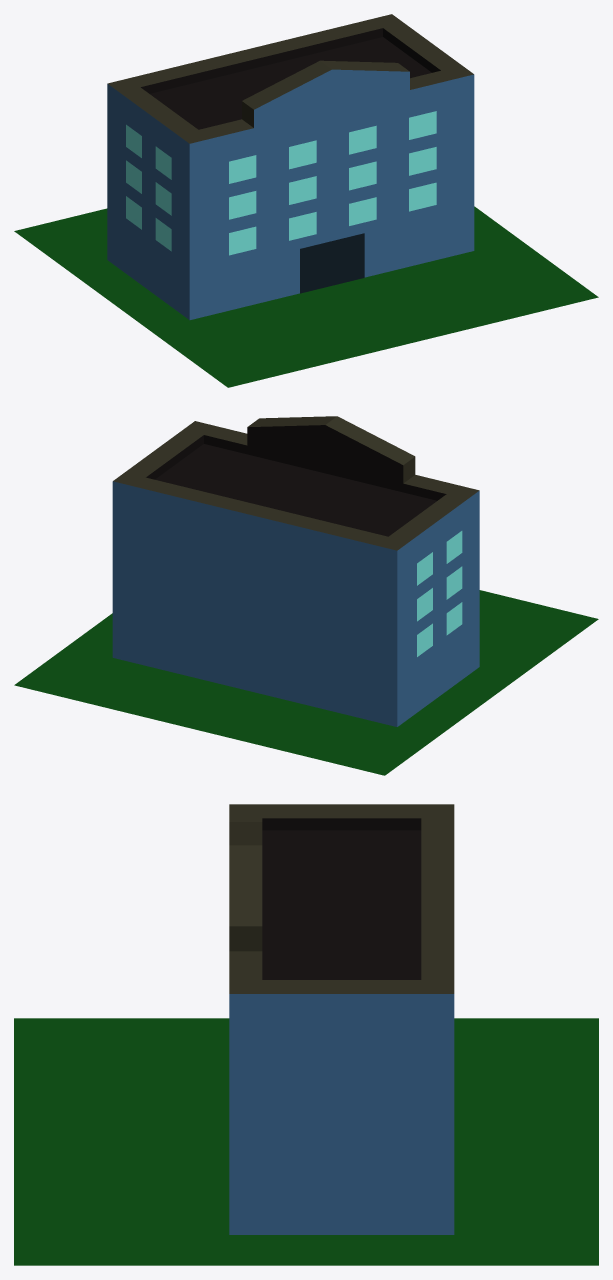
File: bldg_building_01.FBX
The picture shows the model from 3 angles, top to bottom: view 1: azimuth 30°, elevation 25°; view 2: azimuth 150°, elevation 25°; view 3: azimuth 270°, elevation 25°; orthographic projection. The views are drawn at different scales.
Visible parts, largest first — view 1: building_01_body, groundTile_grass; view 2: building_01_body, groundTile_grass; view 3: building_01_body, groundTile_grass.
Part boxes in pixels (<box>): building_01_body: <box>107,14,474,320</box>; groundTile_grass: <box>14,206,598,387</box>; building_01_body: <box>112,416,479,726</box>; groundTile_grass: <box>14,590,598,775</box>; building_01_body: <box>229,804,454,1234</box>; groundTile_grass: <box>14,1018,598,1265</box>.
Size of the model in its own units: 945 by 532 by 945.
